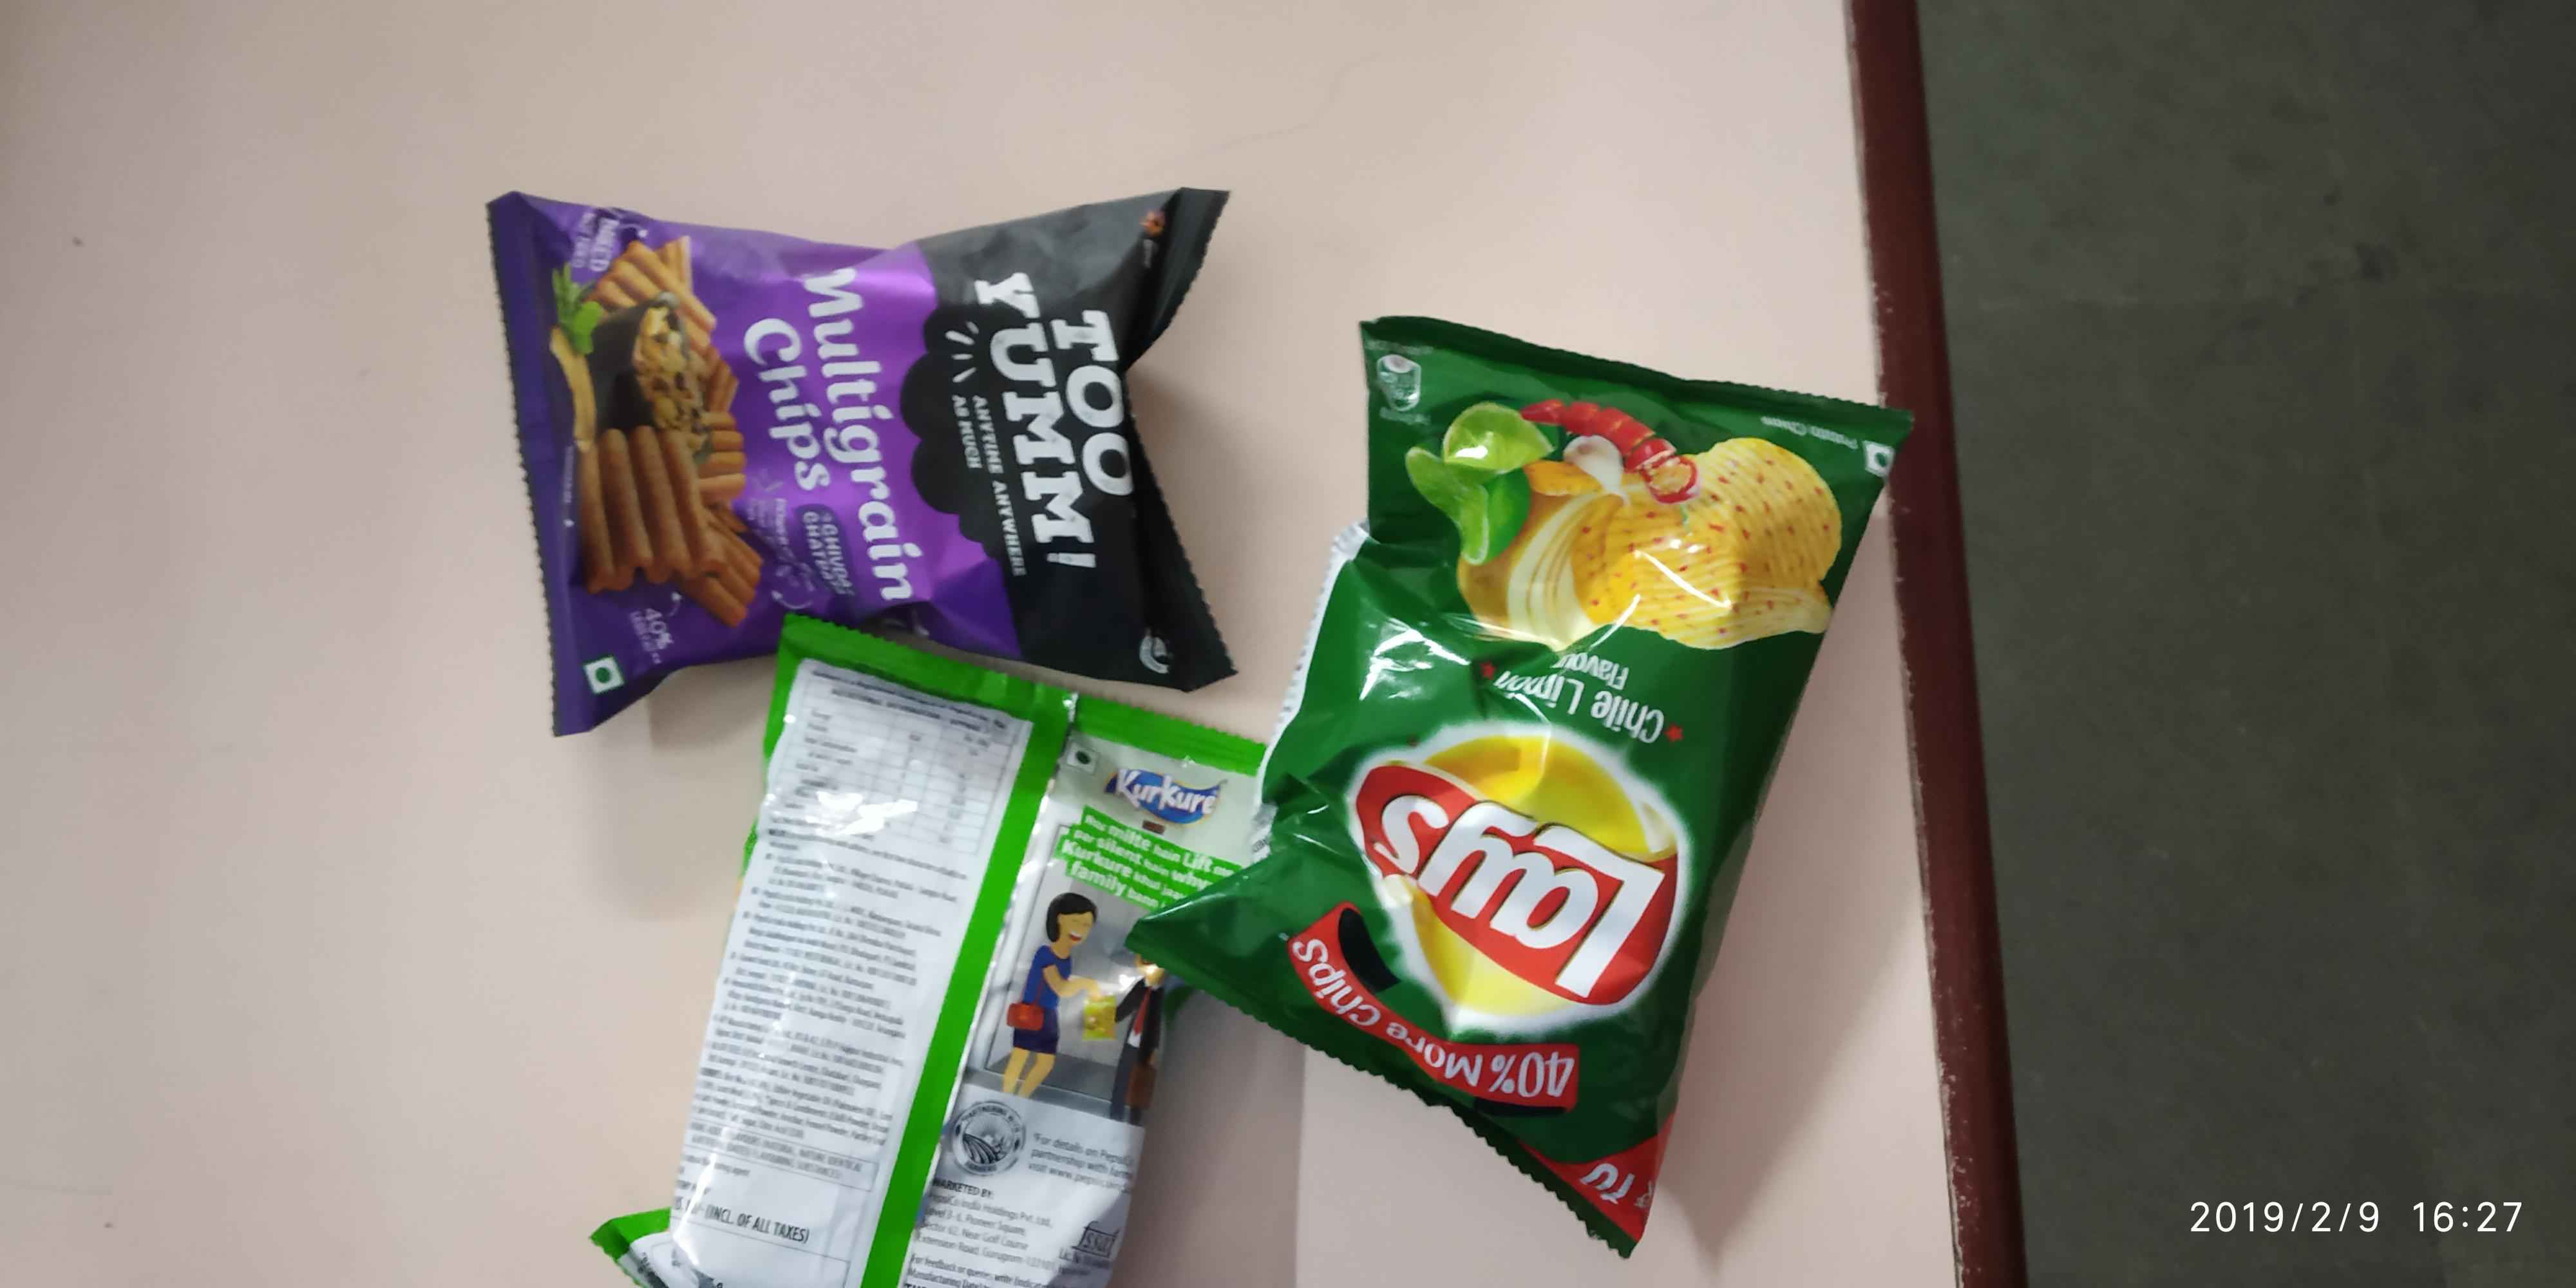Lays: (1337, 677, 1700, 1069)
kurkure: (1079, 748, 1240, 853)
tooyumm: (973, 238, 1183, 601)
